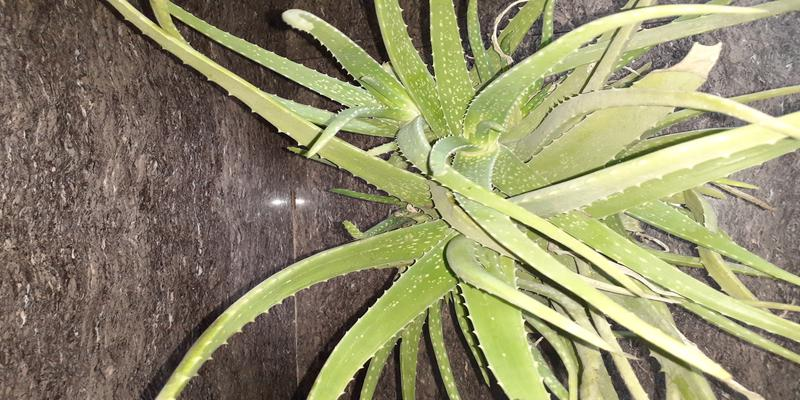Aloevera: (257, 43, 756, 369)
